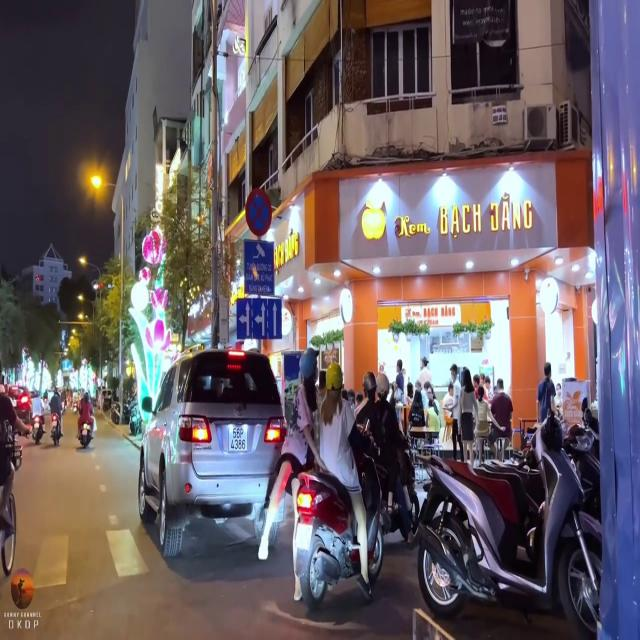bien_trang: (230, 425, 248, 452)
